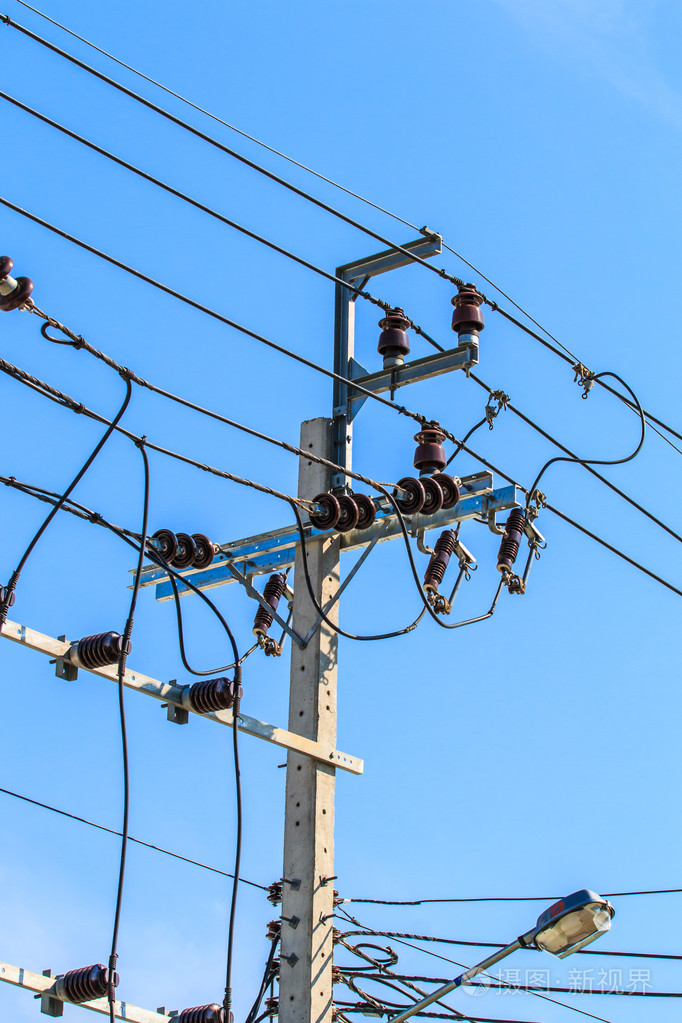insulator: (306, 485, 376, 537), (386, 470, 463, 516), (148, 524, 215, 571), (1, 255, 36, 314)
